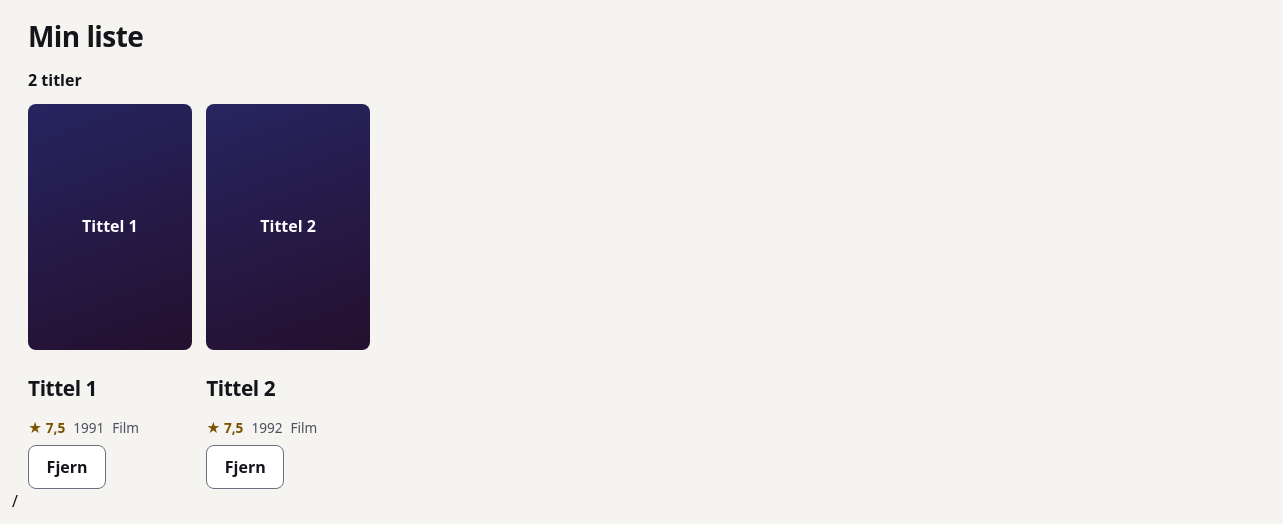
Scenario: MyListPage › fjerner en tittel fra lista uten å hente den på nytt
The width and height of the screenshot is (1283, 524).
Expected: the link "Tittel 1" is shown, [28,375,97,401]
Click the button named "Fjern Tittel 1 fra listen" at [67, 467], box [28,445,106,489]
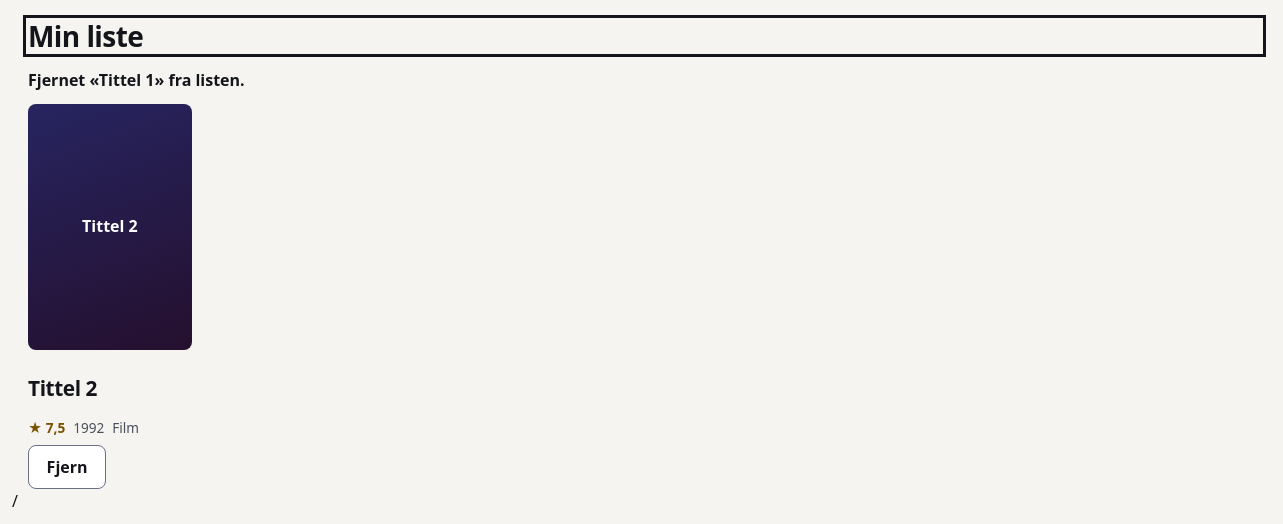
Expected: the link "Tittel 2" is shown, [28,375,97,401]
Expected: the message reads "Fjernet «Tittel 1» fra listen.", [28,69,245,91]
